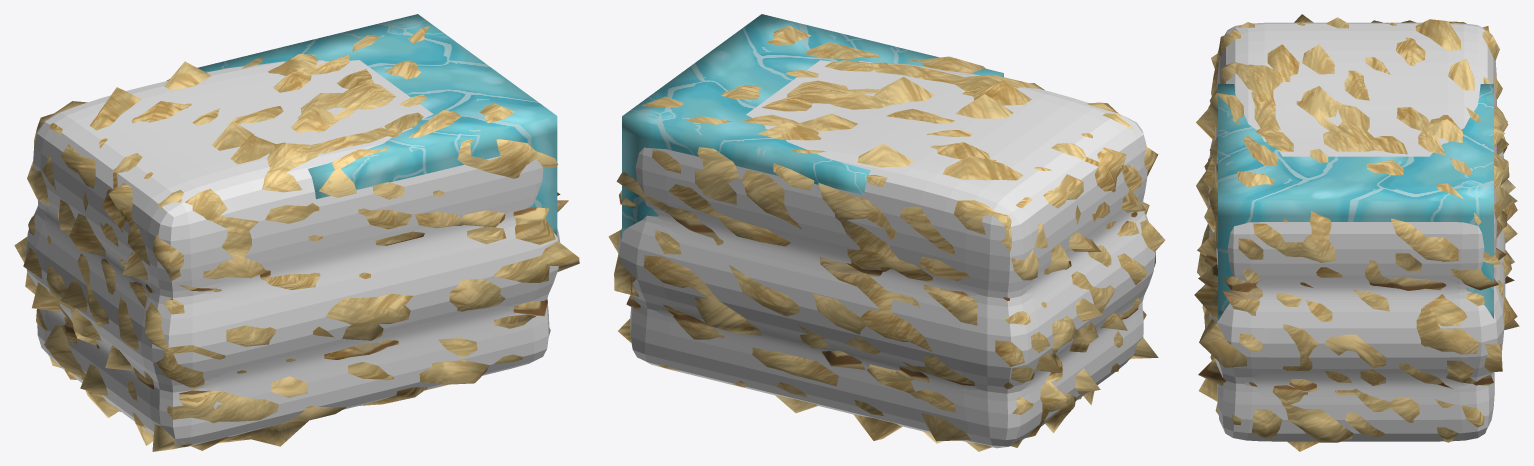
File: HAY BAIL.fbx
3 views of the same model, side by side, from view 1: azimuth 30°, elevation 25°; view 2: azimuth 150°, elevation 25°; view 3: azimuth 270°, elevation 25° (orthographic).
Parts seen in each view (by area): view 1: Cube.002, Cube, Cube.001, Cube.003; view 2: Cube.002, Cube, Cube.001, Cube.003; view 3: Cube.002, Cube, Cube.001, Cube.003.
Boxes of the visible parts, left/top/right/bottom form: Cube.002: left=25, top=60, right=560, bottom=447; Cube: left=14, top=26, right=579, bottom=451; Cube.001: left=197, top=14, right=557, bottom=236; Cube.003: left=41, top=61, right=520, bottom=392; Cube.002: left=618, top=60, right=1155, bottom=448; Cube: left=608, top=25, right=1165, bottom=451; Cube.001: left=622, top=14, right=1003, bottom=235; Cube.003: left=656, top=66, right=1138, bottom=393; Cube.002: left=1208, top=22, right=1505, bottom=441; Cube: left=1194, top=14, right=1519, bottom=451; Cube.001: left=1218, top=84, right=1493, bottom=320; Cube.003: left=1243, top=110, right=1497, bottom=397.
Size of the model in its own units: 371 by 234 by 236.
